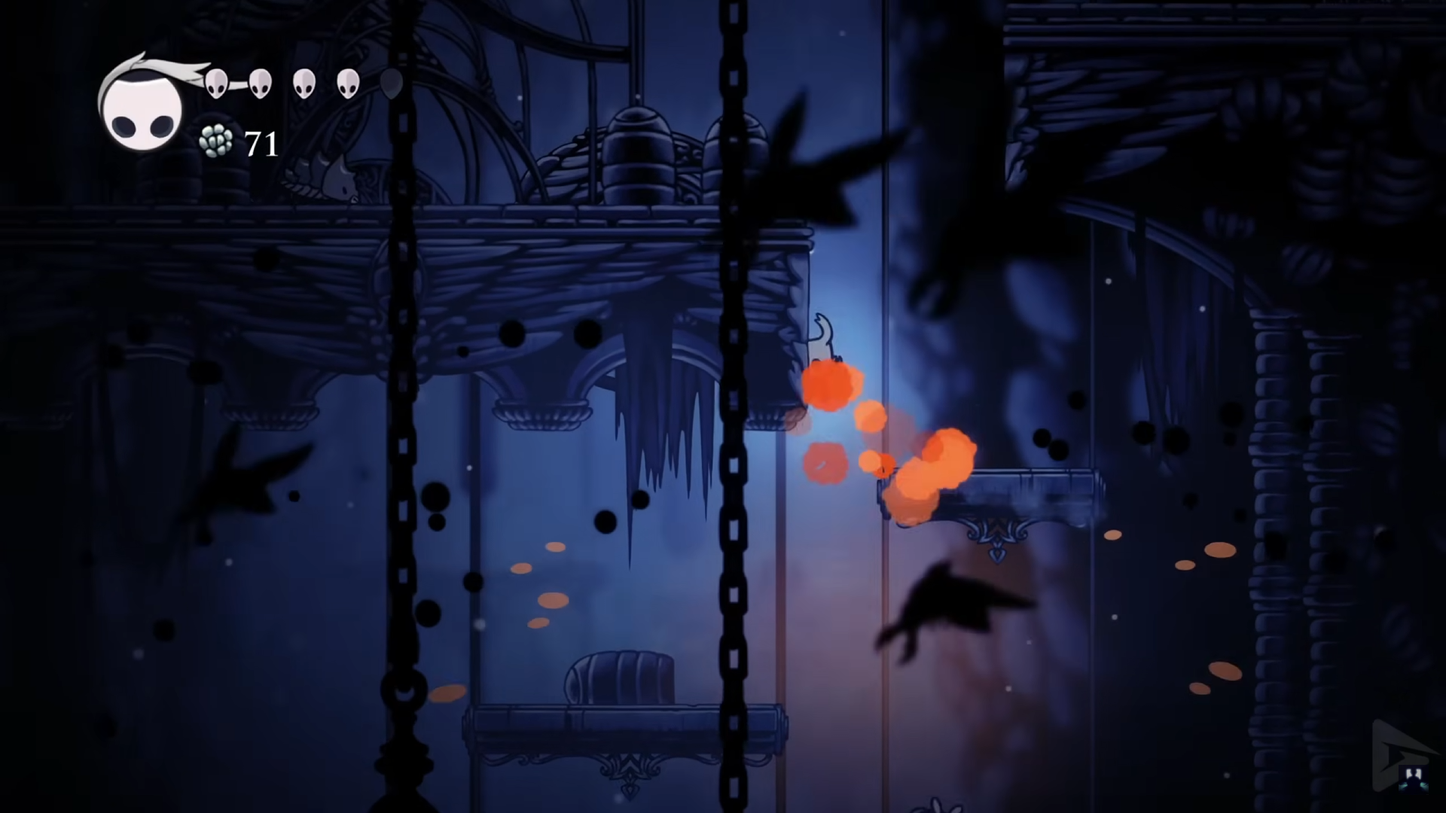HK: (808, 310, 854, 398)
